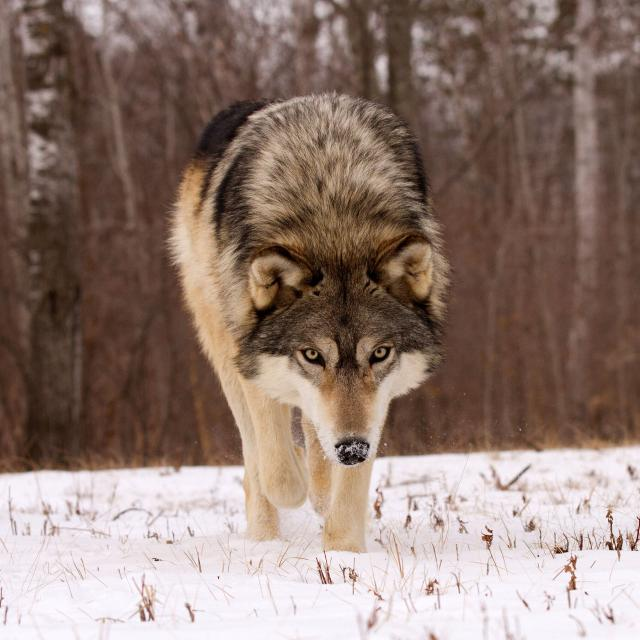Wolf: (160, 88, 457, 558)
